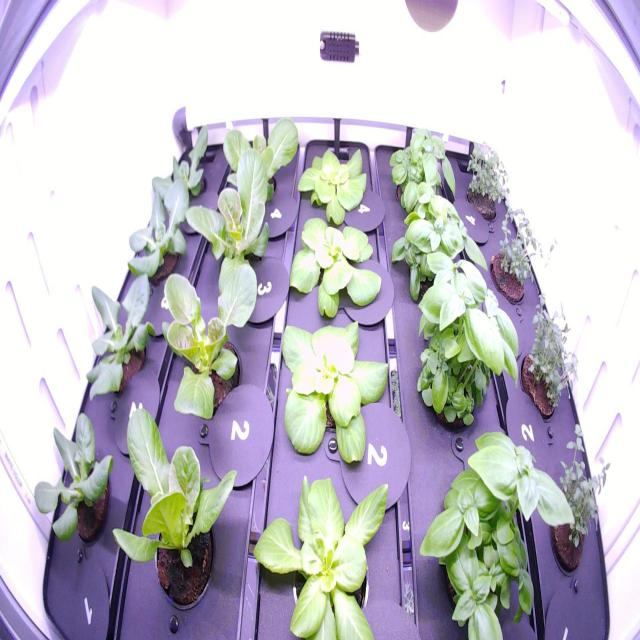young: (108, 396, 244, 618), (250, 457, 398, 637), (146, 244, 263, 439), (176, 142, 286, 346), (267, 303, 393, 479), (18, 400, 119, 564), (73, 261, 163, 413), (208, 111, 312, 238), (282, 208, 384, 330), (120, 167, 200, 282), (294, 137, 374, 233), (144, 112, 216, 217)
